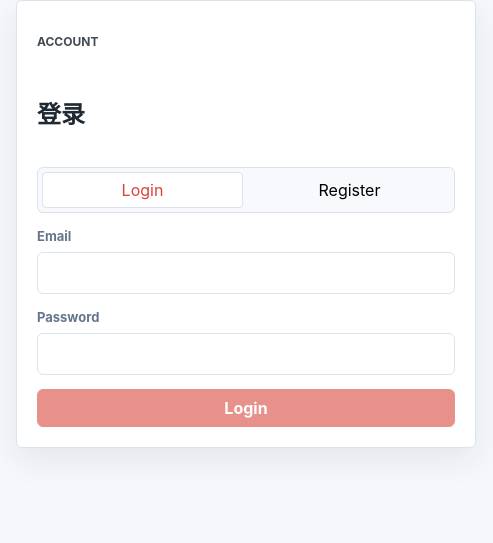
Scenario: Auth page › stores access token after login
Type "user@example.com" into the field labelled "Email" at (246, 273), box [37,252,455,294]
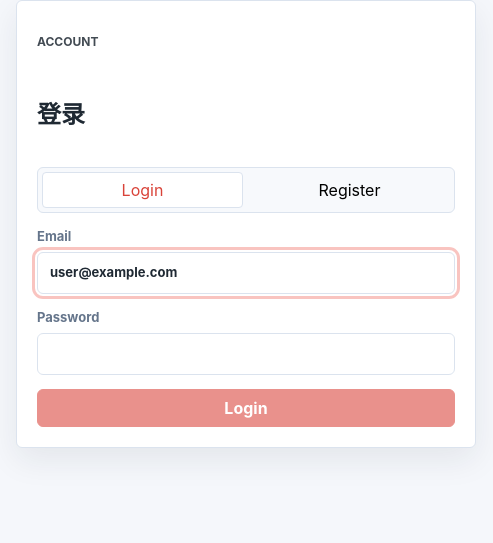
Type "secret-password" into the password field labelled "Password" at (246, 354), box [37,333,455,375]
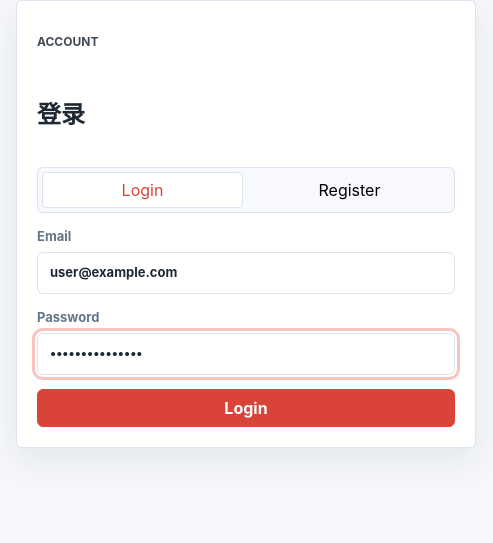
Click the 2nd button "Login" at (246, 408), box [37,389,455,427]
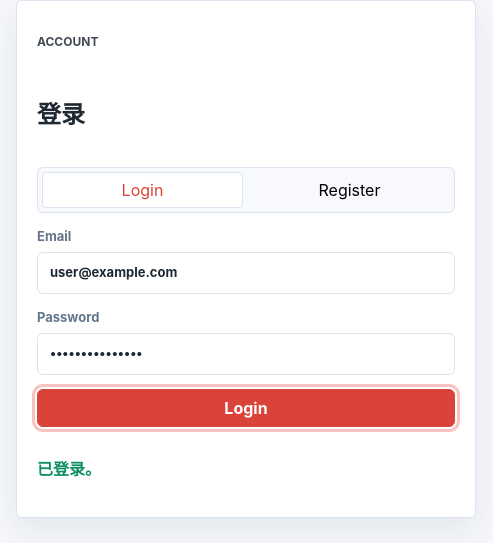
Expected: the text "已登录。" is shown, [37,459,101,479]
